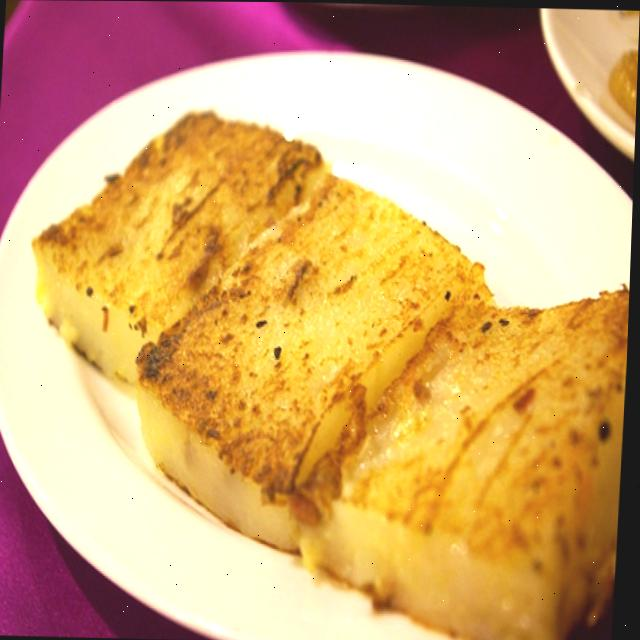蛋糕甜品: (9, 43, 639, 640)
